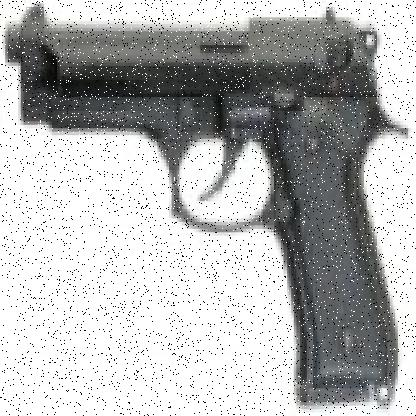pistol: (10, 3, 397, 412)
